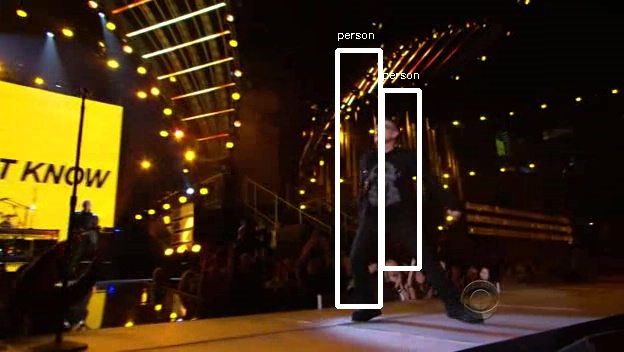person: (353, 119, 422, 236), (350, 119, 419, 236), (356, 119, 425, 236), (353, 116, 422, 233), (353, 122, 422, 239)
target_negative: (27, 41, 544, 190), (367, 23, 600, 349), (582, 60, 599, 192), (570, 302, 597, 341), (566, 285, 616, 304), (531, 66, 541, 97)
